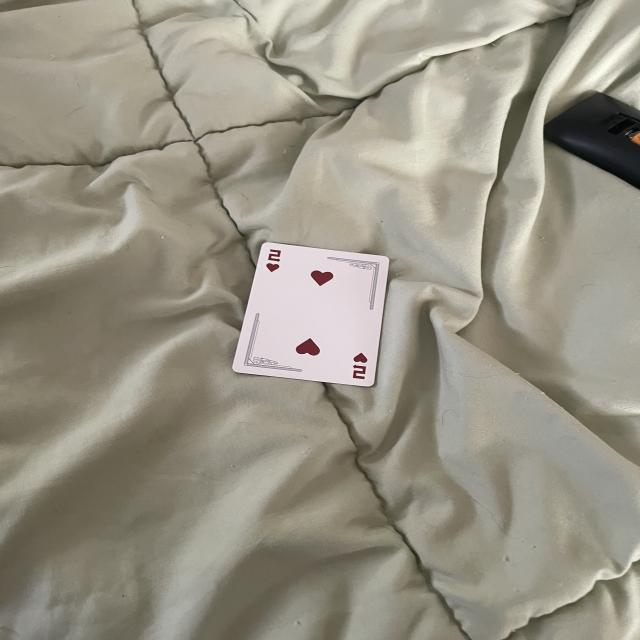2 of hearts: (233, 242, 392, 388)
